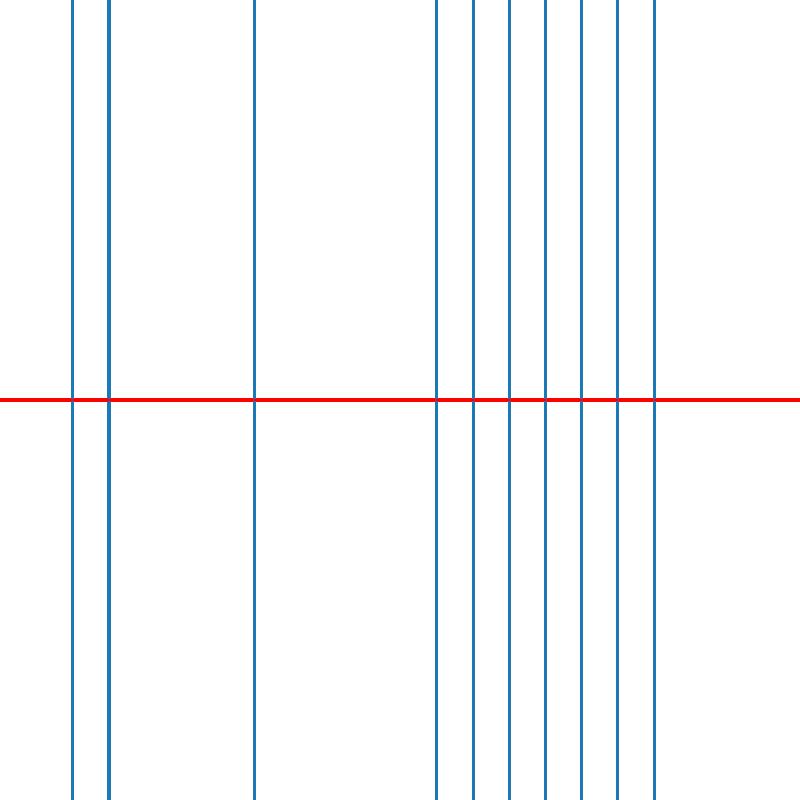root: (432, 396, 440, 404), (541, 396, 549, 404), (250, 396, 258, 404), (650, 396, 658, 404), (105, 396, 112, 404), (69, 396, 76, 404), (578, 396, 585, 404), (469, 396, 476, 404), (614, 396, 621, 404), (505, 396, 512, 404)
